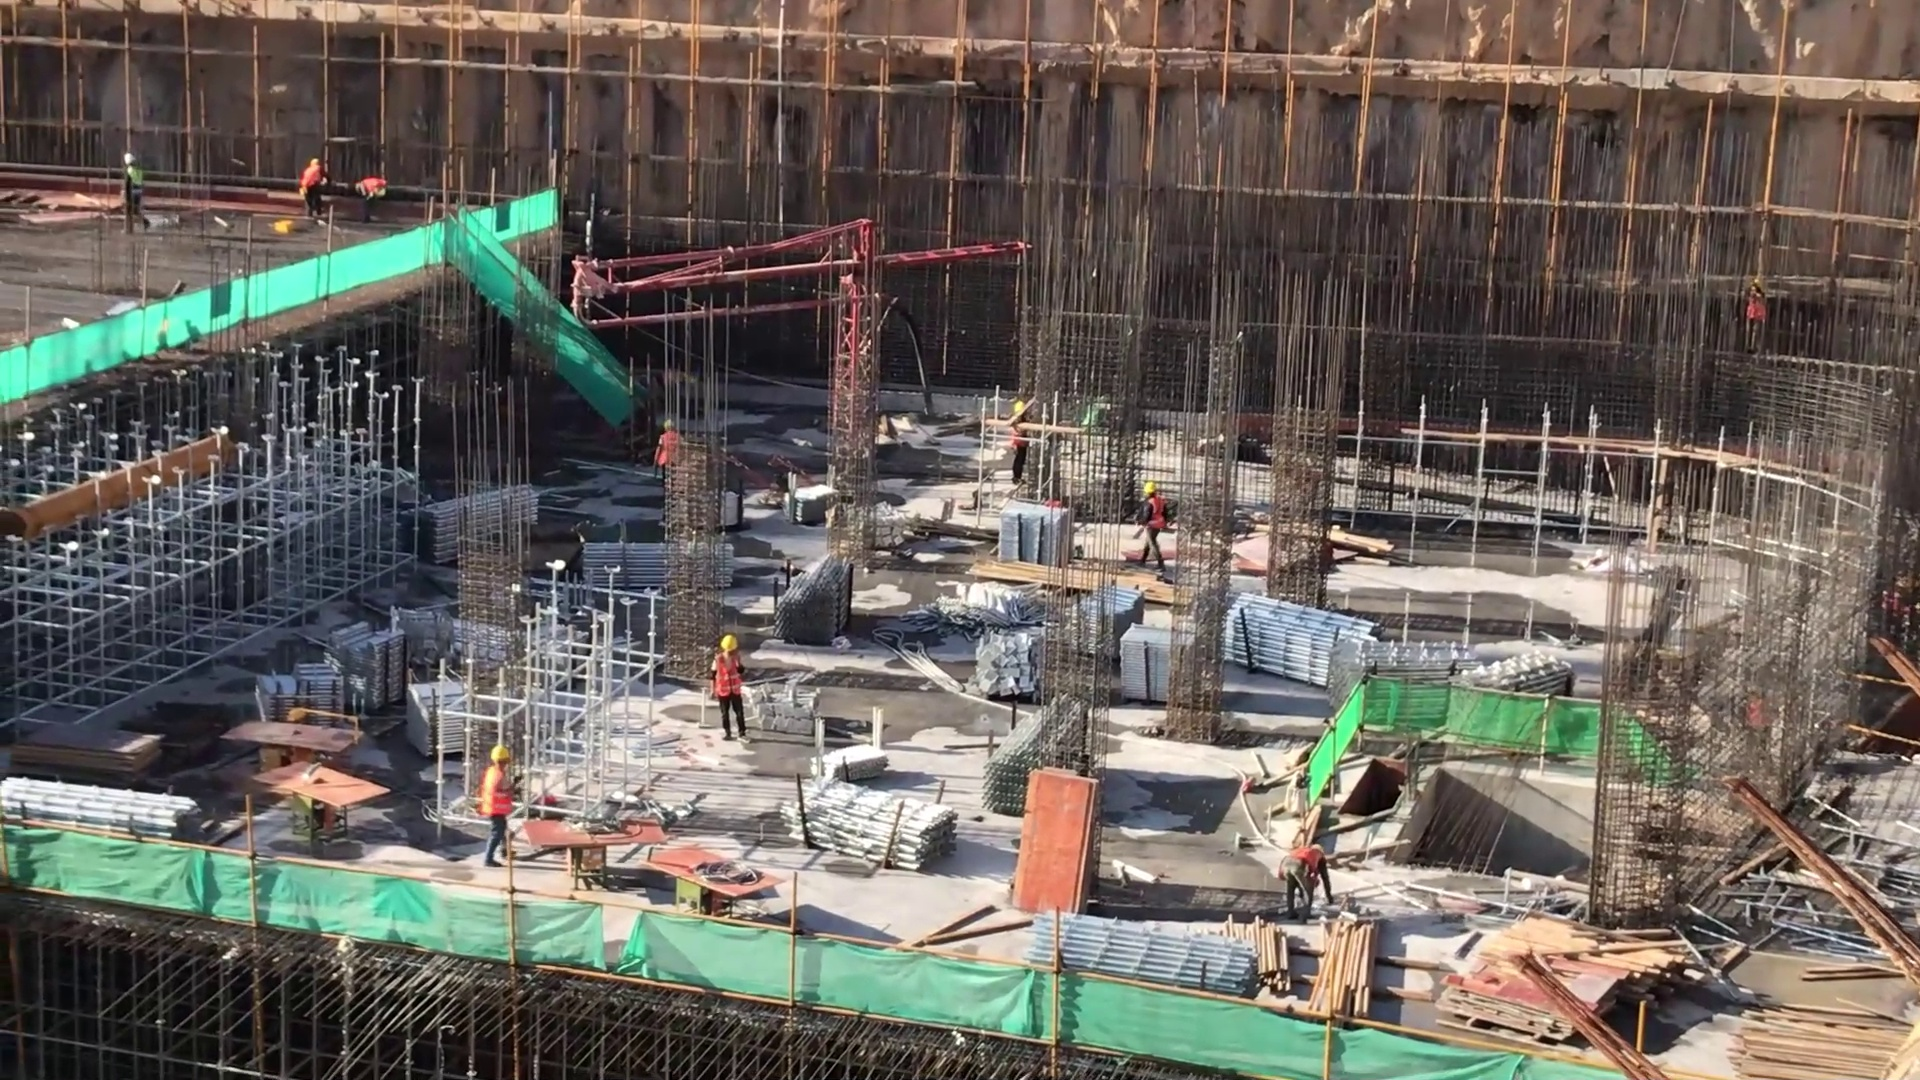board: (1424, 963, 1634, 1040), (1009, 765, 1105, 921), (4, 727, 165, 775)
cutter: (633, 840, 811, 927), (517, 811, 670, 899), (264, 759, 392, 848), (216, 723, 359, 780)
helmet: (719, 630, 743, 660), (488, 742, 513, 768), (1010, 395, 1034, 418), (122, 148, 141, 173), (1144, 483, 1162, 497), (308, 154, 320, 168)
person: (1282, 828, 1343, 937), (701, 635, 754, 756), (481, 745, 517, 876), (296, 148, 340, 238), (1133, 475, 1169, 587), (115, 148, 155, 245), (349, 165, 404, 234), (1008, 397, 1036, 497), (655, 415, 685, 487)
scaffold: (1024, 904, 1271, 1026), (1215, 586, 1387, 715), (783, 775, 968, 885), (1332, 621, 1480, 736), (1451, 651, 1582, 747), (406, 483, 548, 563), (582, 535, 735, 590), (774, 553, 858, 648), (251, 657, 349, 737), (106, 785, 206, 854), (1071, 583, 1154, 663), (333, 621, 406, 712)
vest: (1287, 843, 1324, 894), (481, 766, 514, 820), (713, 655, 746, 697), (1138, 495, 1171, 533), (657, 431, 684, 474), (358, 175, 386, 196), (125, 169, 140, 206), (302, 165, 320, 190)
